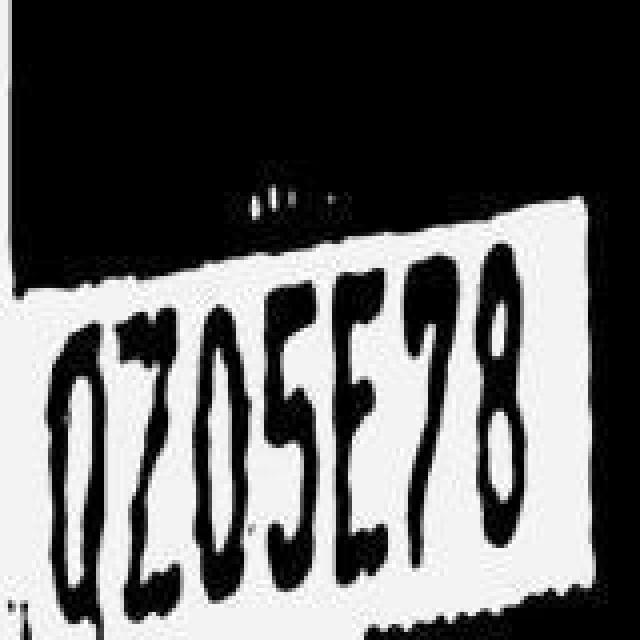5: (252, 288, 332, 600)
7: (398, 254, 466, 594)
8: (468, 230, 556, 570)
E: (336, 268, 400, 596)
O: (190, 302, 258, 610)
Q: (32, 320, 112, 640)
Z: (114, 302, 190, 626)
